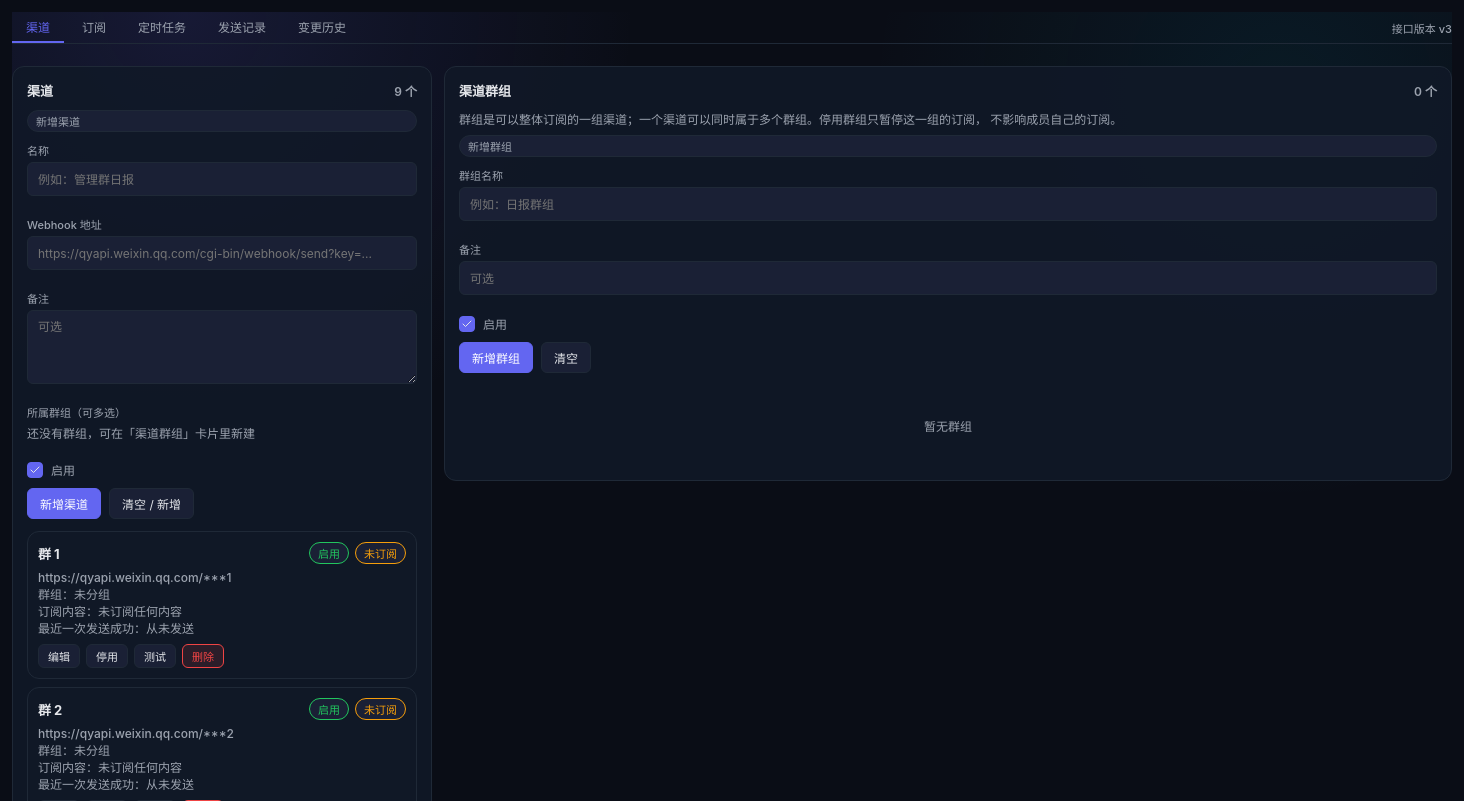
Test case: 多选列表（渠道 > 8）的勾选与保存反馈 › 没有差异时不发请求，也不假报「已保存」
Click the button "订阅": (94, 28) x1=68 y1=12 x2=120 y2=43
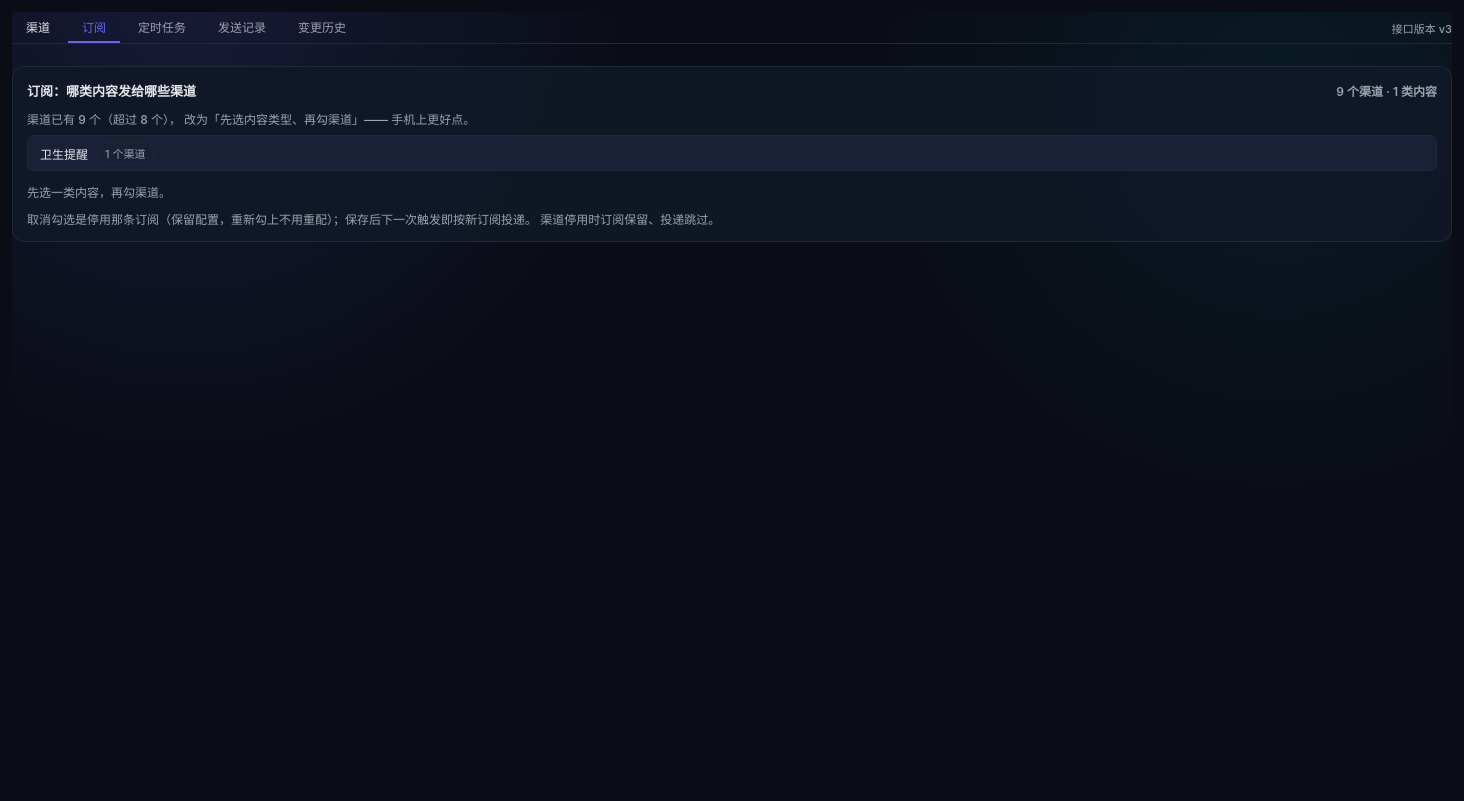
Click the button with class "wp-pick-row": (64, 154) x1=27 y1=135 x2=1437 y2=171
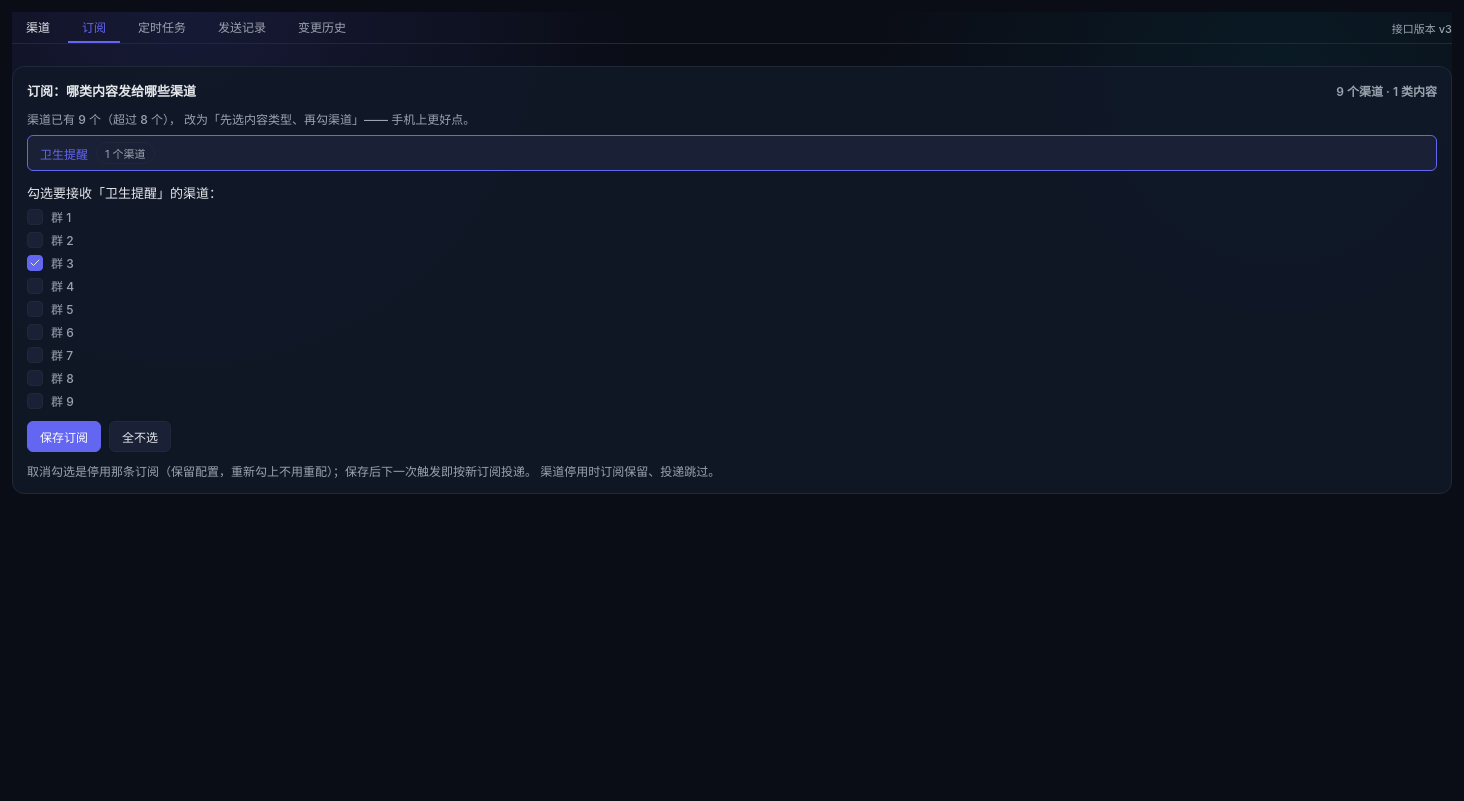
Expected: the button "保存订阅" is shown
Click the button "保存订阅": (64, 436) x1=27 y1=421 x2=101 y2=452
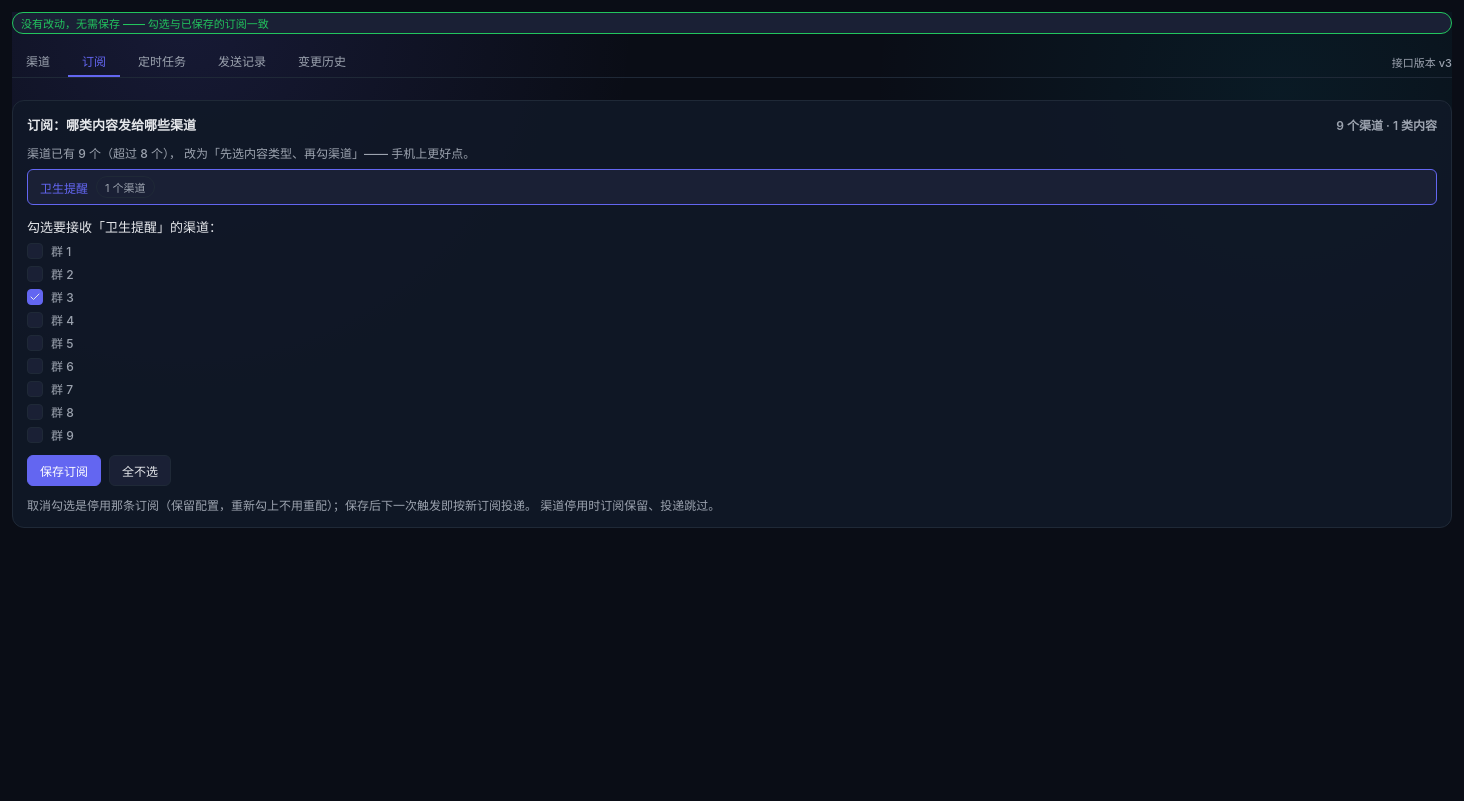
Expected: the text "没有改动，无需保存" is shown, x1=21 y1=17 x2=269 y2=31
